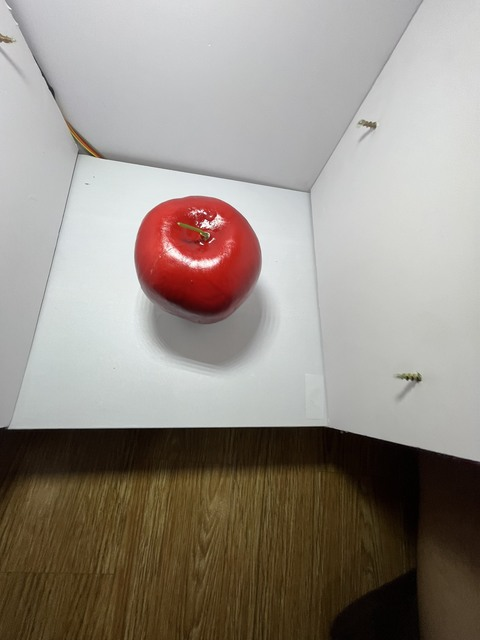Tao: (135, 193, 265, 330)
